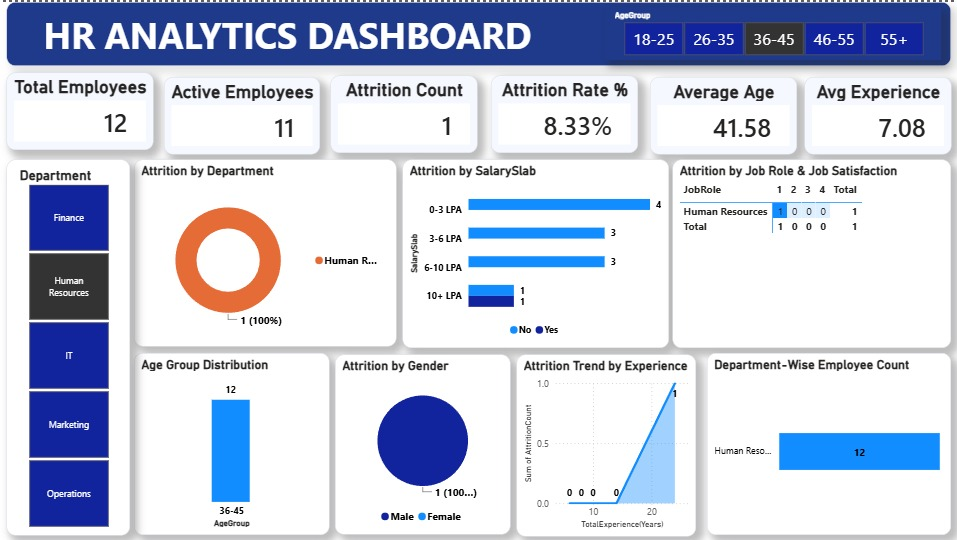

What the dashboard file says about the page in this screenshot:
{"tool":"powerbi","page":{"name":"Page 2","canvas":[1280,720],"ordinal":0},"visuals":[{"type":"textbox","box":[9.4,0,1259,85],"z":0},{"type":"cardVisual","title":"Total Employees","fields":{"Data":["CountNonNull(HR_Analytics-4.EmpID)"]},"box":[10.1,95,196,103.1],"z":1000},{"type":"cardVisual","title":"Active Employees","fields":{"Data":["CountNonNull(HR_Analytics-4.EmployeeCount)"]},"box":[220.3,99,208.2,103.1],"z":2000},{"type":"cardVisual","title":"Attrition Count","fields":{"Data":["Sum(HR_Analytics-4.AttritionCount)"]},"box":[442.6,97,196,103.1],"z":3000},{"type":"cardVisual","title":"Attrition Rate %","fields":{"Data":["HR_Analytics-4.Attrition Rate %"]},"box":[656.8,97,196,103.1],"z":4000},{"type":"cardVisual","title":"Average Age","fields":{"Data":["Avg(HR_Analytics-4.Age)"]},"box":[867,99,196,103.1],"z":5000},{"type":"cardVisual","title":"Avg Experience","fields":{"Data":["Avg(HR_Analytics-4.YearsatCompany)"]},"box":[1073.2,99,196,103.1],"z":6000},{"type":"donutChart","title":" Attrition by Department","fields":{"Category":["HR_Analytics-4.Department"],"Y":["Sum(HR_Analytics-4.AttritionCount)"]},"box":[179,210,350,249],"z":7000},{"type":"clusteredBarChart","title":"Attrition by SalarySlab","fields":{"Category":["HR_Analytics-4.SalarySlab"],"Y":["Sum(HR_Analytics-4.EmployeeCount)"],"Series":["HR_Analytics-4.Attrition"]},"box":[537,209,355,251],"z":8000},{"type":"pivotTable","title":"Attrition by Job Role & Job Satisfaction","fields":{"Rows":["HR_Analytics-4.JobRole"],"Values":["Sum(HR_Analytics-4.AttritionCount)"],"Columns":["HR_Analytics-4.JobSatisfaction"]},"box":[898,209,371,251],"z":9000},{"type":"columnChart","title":"Age Group  Distribution","fields":{"Category":["HR_Analytics-4.AgeGroup"],"Y":["Sum(HR_Analytics-4.EmployeeCount)"]},"box":[179.9,468.9,260.7,242.5],"z":9001},{"type":"pieChart","title":" Attrition by Gender","fields":{"Category":["HR_Analytics-4.Gender"],"Y":["Sum(HR_Analytics-4.AttritionCount)"]},"box":[448,470.9,234,240],"z":9002},{"type":"areaChart","title":"Attrition Trend  by Experience","fields":{"Category":["HR_Analytics-4.TotalExperience(Years)"],"Y":["Sum(HR_Analytics-4.AttritionCount)"]},"box":[689,469,239,242.5],"z":9003},{"type":"funnel","title":"Department-Wise Employee Count","fields":{"Category":["HR_Analytics-4.Department"],"Y":["Sum(HR_Analytics-4.EmployeeCount)"]},"box":[943.8,468.9,325.4,242.5],"z":9004},{"type":"slicer","fields":{"Values":["HR_Analytics-4.Department"]},"box":[9.6,209.3,164.5,501.6],"z":9005},{"type":"slicer","fields":{"Values":["HR_Analytics-4.AgeGroup"]},"box":[808.3,6.4,448.9,71.9],"z":9006}]}

Visuals, with their boxes in screenshot pixels (x1, y1, x2, y2), scaled from the page's 1280x720 canvas onto the 957x540 screenshot:
textbox: detection(7, 0, 948, 64)
"Total Employees" cardVisual: detection(8, 71, 154, 149)
"Active Employees" cardVisual: detection(165, 74, 320, 152)
"Attrition Count" cardVisual: detection(331, 73, 477, 150)
"Attrition Rate %" cardVisual: detection(491, 73, 638, 150)
"Average Age" cardVisual: detection(648, 74, 795, 152)
"Avg Experience" cardVisual: detection(802, 74, 949, 152)
" Attrition by Department" donutChart: detection(134, 158, 396, 344)
"Attrition by SalarySlab" clusteredBarChart: detection(401, 157, 667, 345)
"Attrition by Job Role & Job Satisfaction" pivotTable: detection(671, 157, 949, 345)
"Age Group  Distribution" columnChart: detection(135, 352, 329, 534)
" Attrition by Gender" pieChart: detection(335, 353, 510, 533)
"Attrition Trend  by Experience" areaChart: detection(515, 352, 694, 534)
"Department-Wise Employee Count" funnel: detection(706, 352, 949, 534)
slicer - HR_Analytics-4.Department: detection(7, 157, 130, 533)
slicer - HR_Analytics-4.AgeGroup: detection(604, 5, 940, 59)
